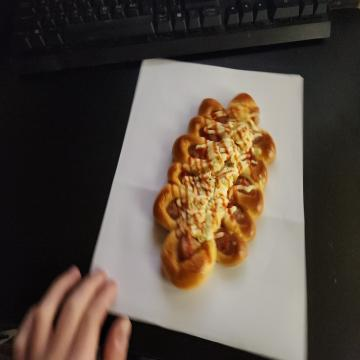pizza_bread: (154, 92, 274, 294)
